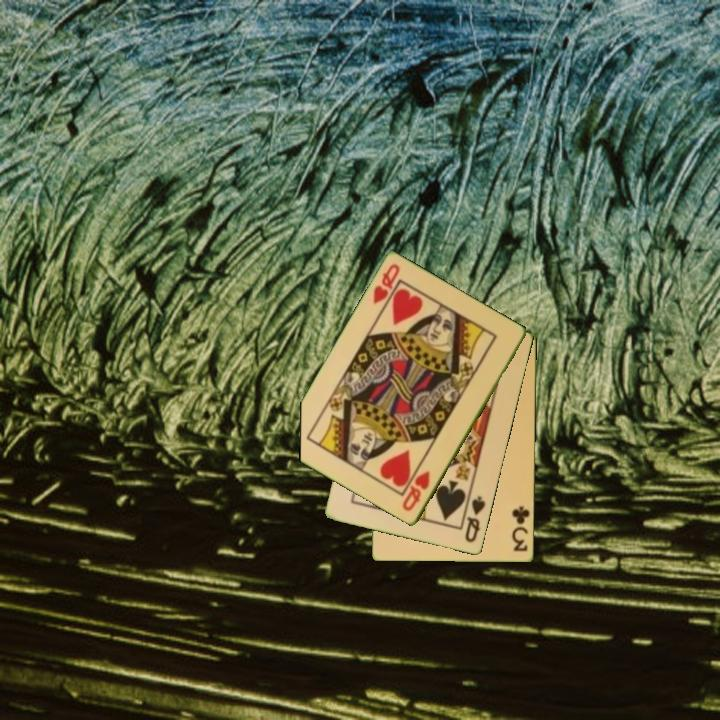3c: (509, 503, 533, 554)
Qh: (370, 260, 403, 308), (399, 468, 433, 514)
Qs: (462, 493, 489, 546)
